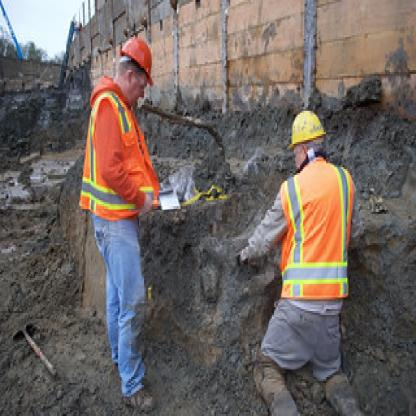person: (238, 89, 372, 414), (75, 25, 177, 408)
